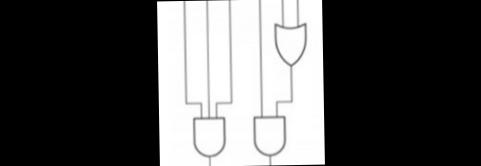and: (249, 110, 288, 161)
or: (270, 18, 310, 70)
